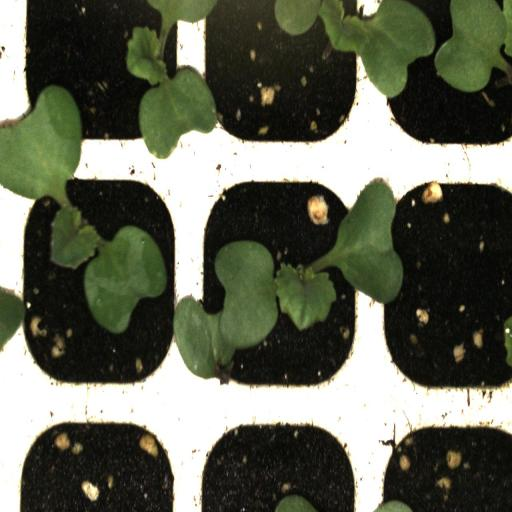Folha: (274, 0, 512, 99)
Germinacao: (186, 158, 374, 409), (186, 159, 374, 408), (12, 158, 186, 409), (187, 0, 374, 155), (12, 0, 186, 156)
